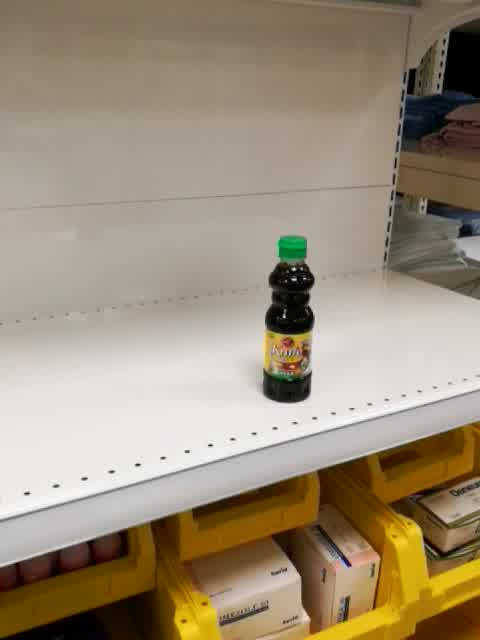cookingoil: (261, 233, 315, 405)
